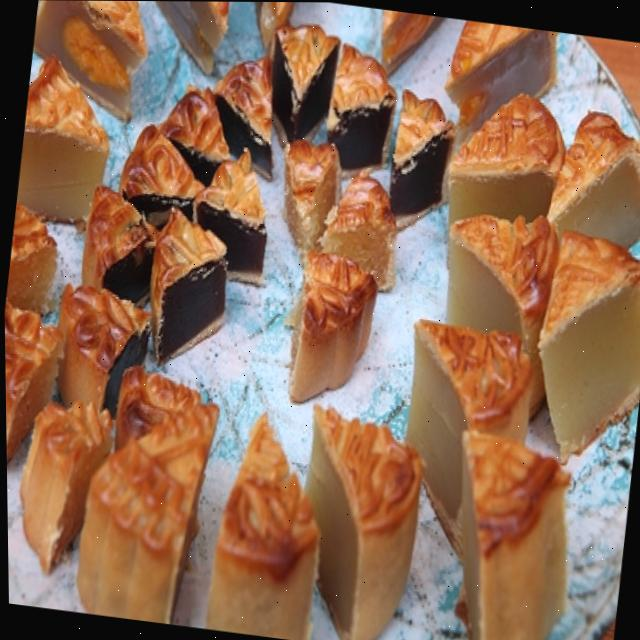蛋糕甜品: (0, 0, 626, 628)
